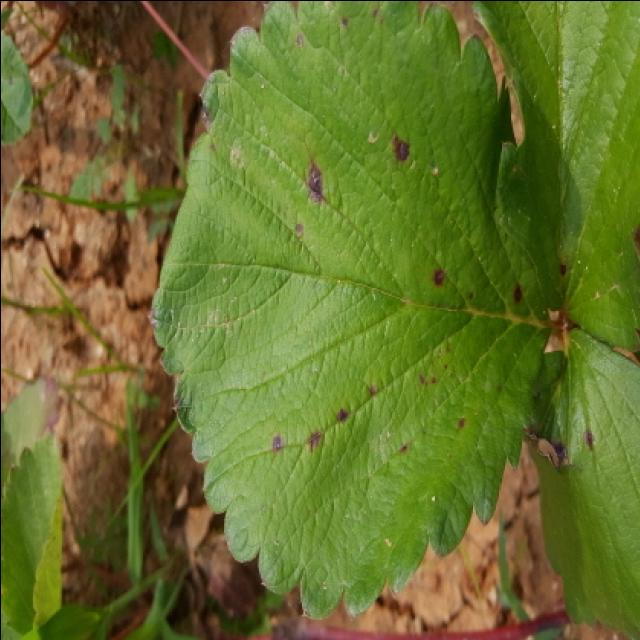Leaf Spot: (147, 2, 557, 620), (472, 2, 638, 349), (524, 327, 638, 640)
